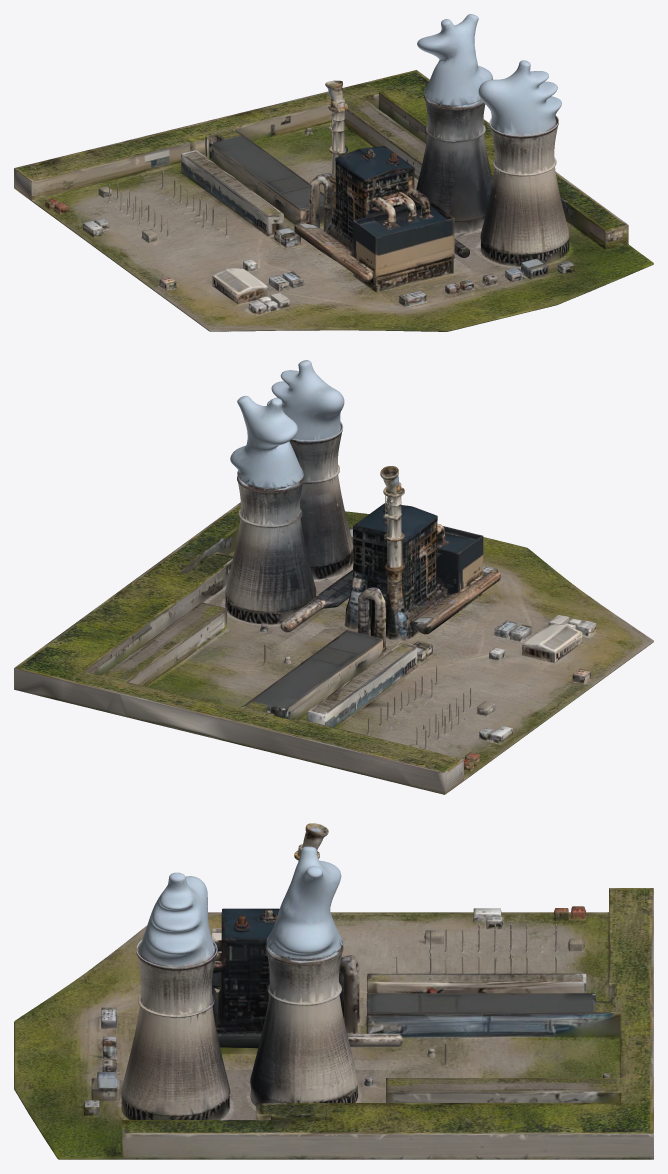
Rendered from CapeTownPowerStation.glb.
3 renders of one model, top to bottom at view 1: azimuth 30°, elevation 25°; view 2: azimuth 150°, elevation 25°; view 3: azimuth 270°, elevation 25°, orthographic. The views are drawn at different scales.
Parts seen in each view (by area): view 1: node_0; view 2: node_0; view 3: node_0.
Part boxes in pixels (bbox=[...]): node_0: bbox=[14, 14, 653, 331]; node_0: bbox=[14, 360, 653, 794]; node_0: bbox=[14, 823, 653, 1159].
Size of the model in its own units: 0.7717 by 0.3613 by 0.847.
1 material, 1 textured.
